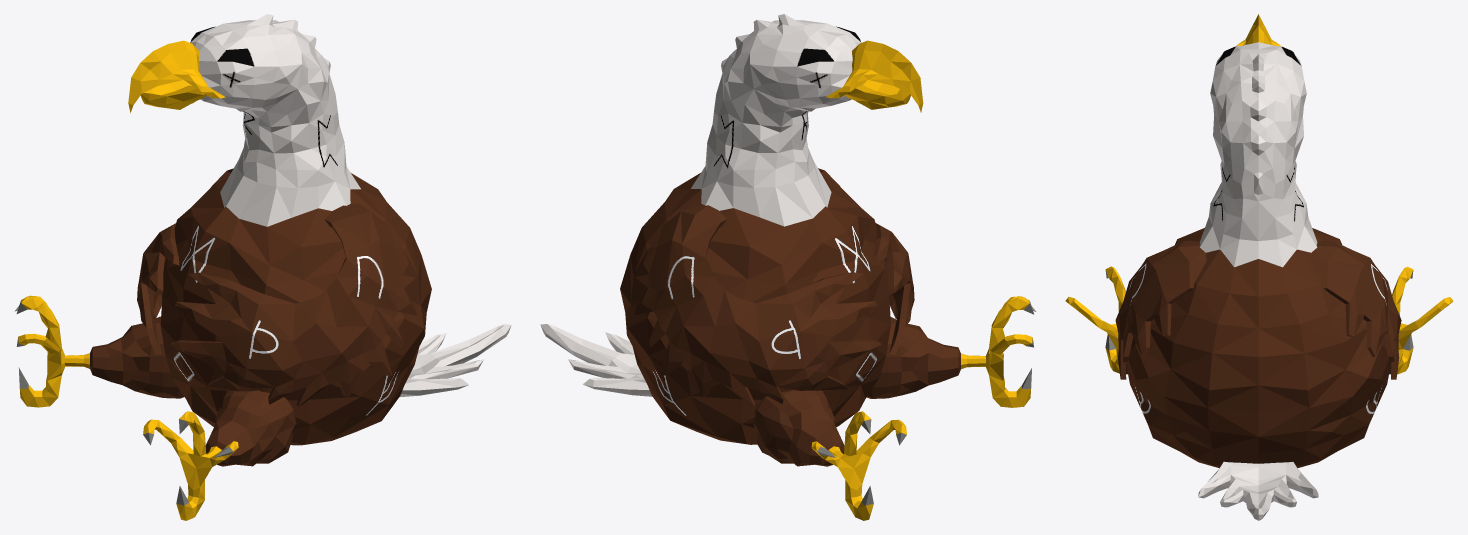
File: Gammur_01.fbx
3 views of the same model, side by side, from view 1: azimuth 30°, elevation 25°; view 2: azimuth 150°, elevation 25°; view 3: azimuth 270°, elevation 25° (orthographic). The views are drawn at different scales.
Visible parts, largest first — view 1: DM_beak_top; view 2: DM_beak_top; view 3: DM_beak_top.
Boxes of the visible parts, x1,y1,x2,y2 form: DM_beak_top: (14, 14, 511, 520); DM_beak_top: (540, 14, 1036, 520); DM_beak_top: (1065, 14, 1453, 520).
Size of the model in its own units: 236 by 216 by 198.
4 materials, 4 textured.
